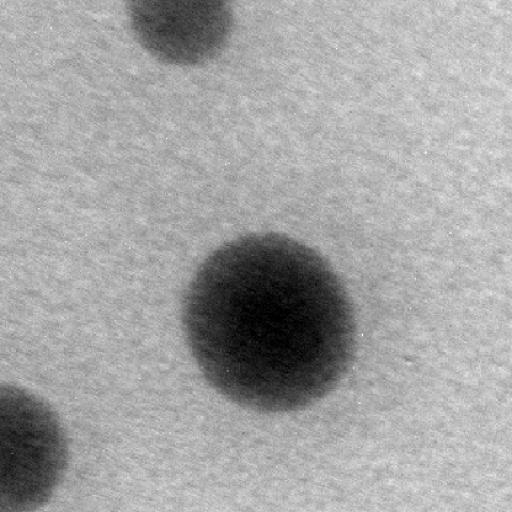Nanoparticles: (181, 228, 357, 408), (0, 384, 68, 508), (127, 0, 235, 64)
